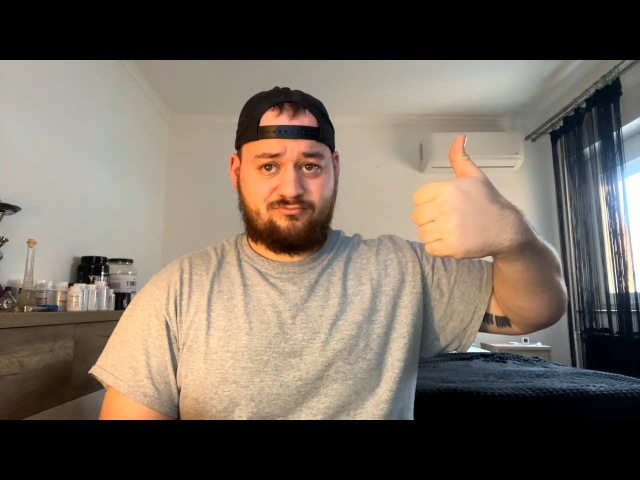ThumbsUp: (411, 134, 531, 260)
